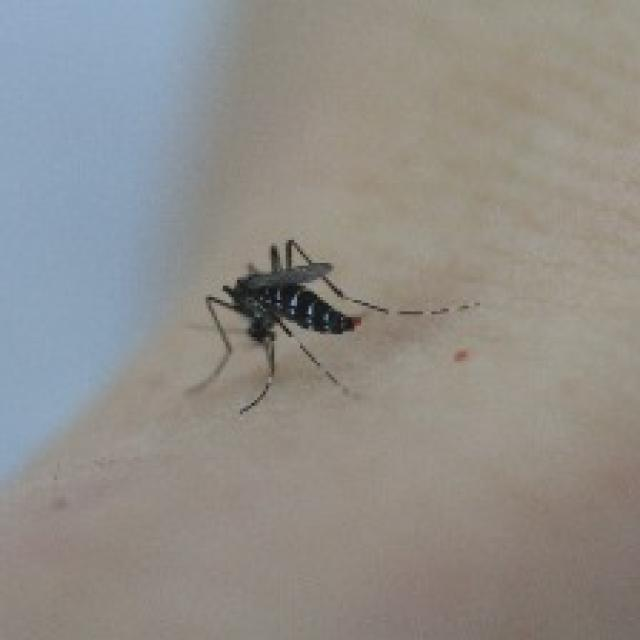aedes: (183, 235, 480, 414)
